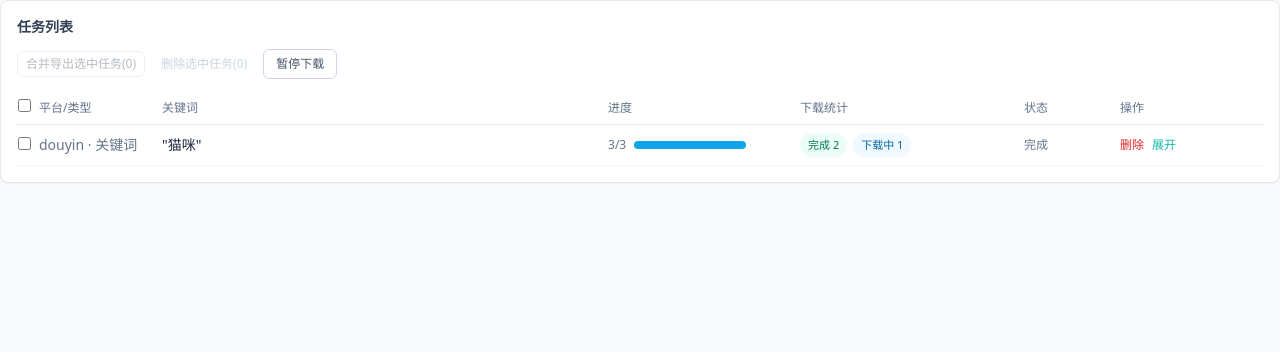
Test: D8 视频列表 › 标题列有最小宽度，不再被操作按钮挤窄；鼠标停上去能看全文
The width and height of the screenshot is (1280, 352).
Click the button "展开" at coordinates (1164, 145), box [1152,137,1176,153]
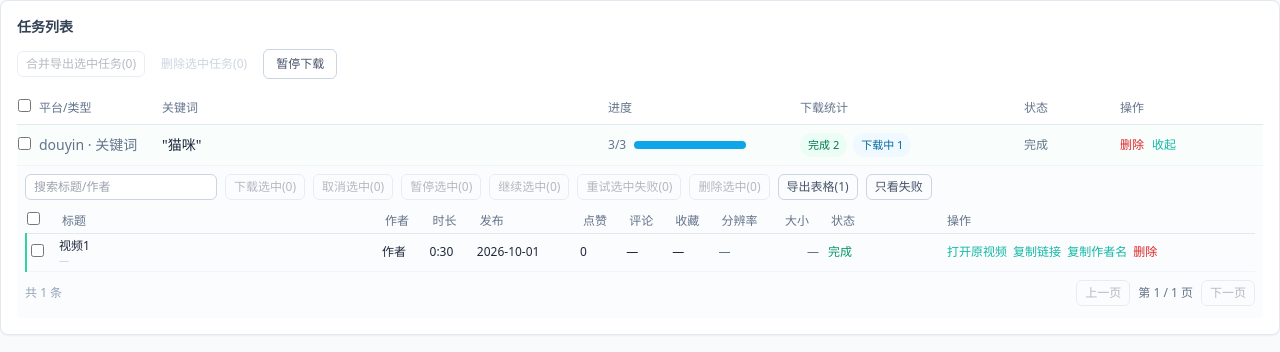
Expected: the text "视频1" is shown, [59,237,90,254]
